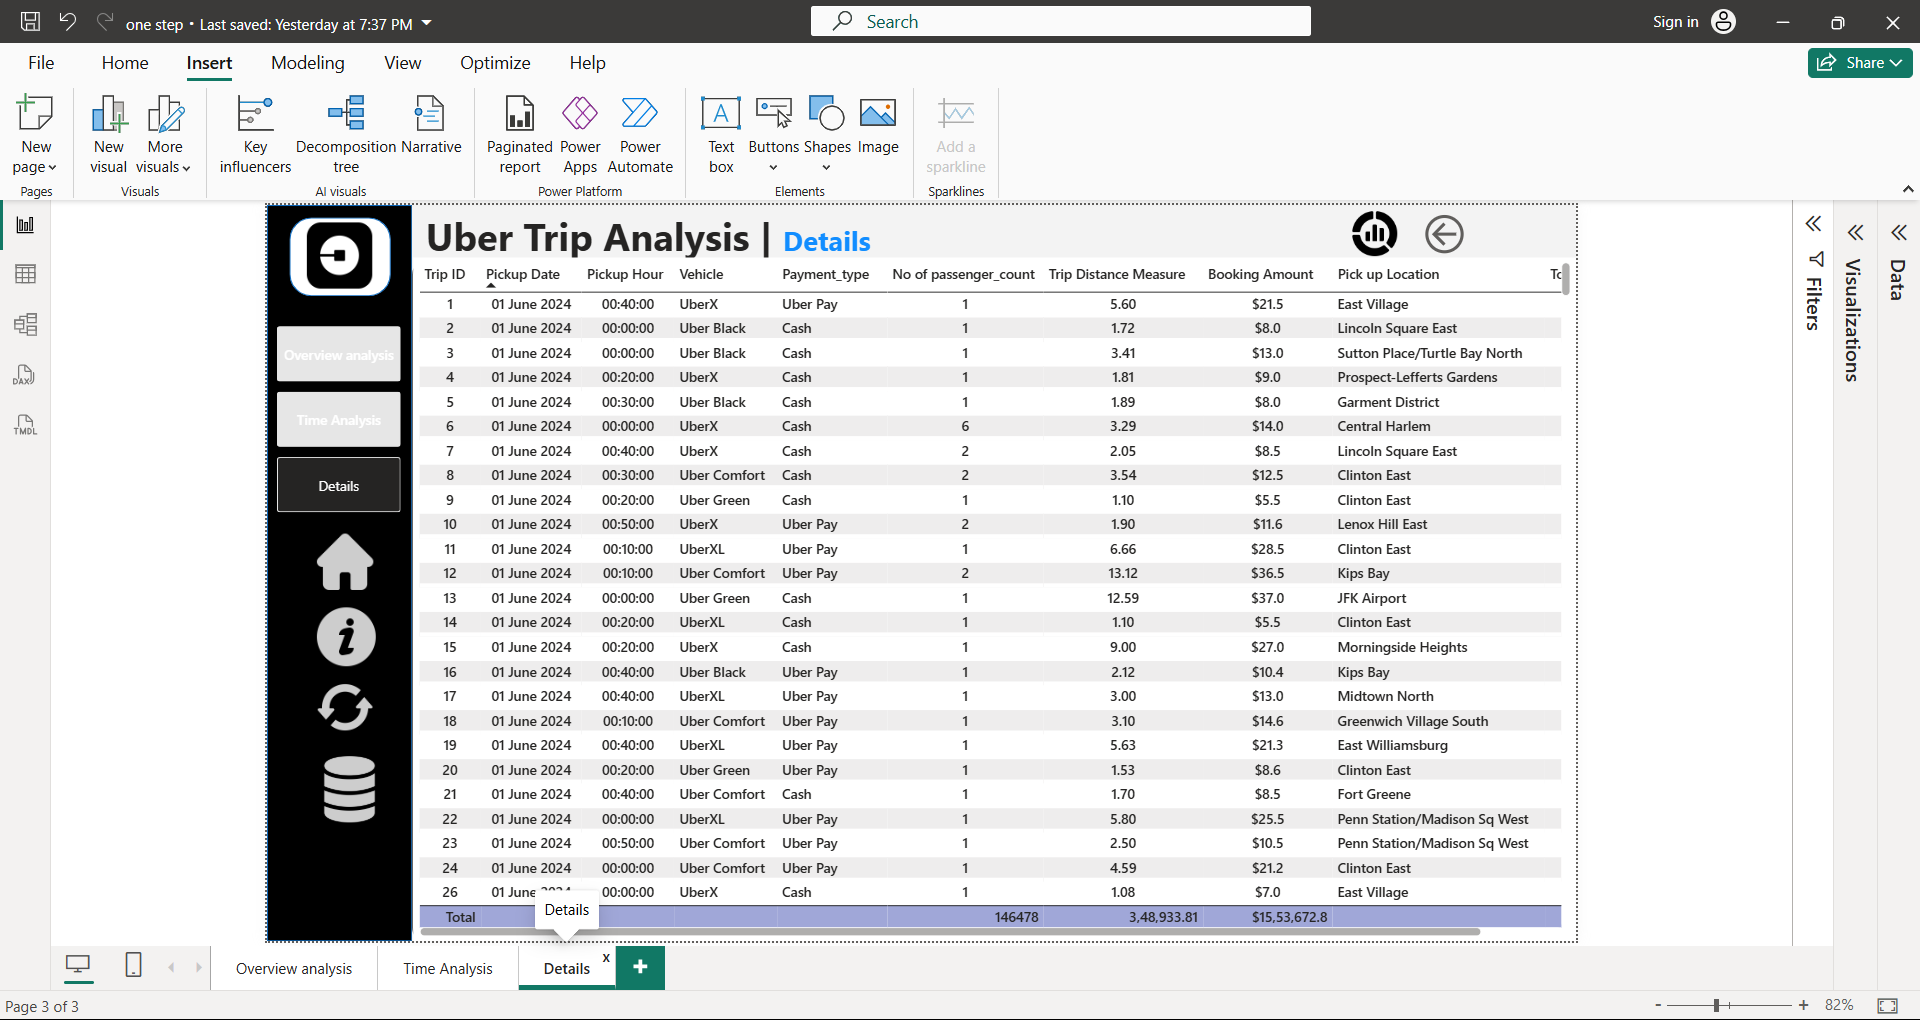

Layout of this report page (visuals, bound fields, positions):
{"tool":"powerbi","page":{"name":"Details","canvas":[1280,720],"ordinal":2},"visuals":[{"type":"shape","box":[0,0,141.8,720.2],"z":0},{"type":"textbox","box":[150.4,0,672.6,64.8],"z":1000},{"type":"shape","title":"Vehicle Type Analysis","box":[141.8,55,1138.5,665.2],"z":2000},{"type":"tableEx","fields":{"Values":["Trip Details.Trip ID","Trip Details.Pickup Date","Trip Details.Pickup Hour (HH MM SS) (bins)","Trip Details.Vehicle","Trip Details.Payment_type","Sum(Trip Details.passenger_count)","Trip Details.Total Trip Distance Measure","Trip Details.Total Booking Amount","Location Table.Location","Trip Details.Total Bookings"]},"box":[143.1,51.4,1137.2,668.9],"z":3000},{"type":"actionButton","box":[1127.5,2.4,48.9,52.6],"z":4000},{"type":"image","box":[1055.3,1.2,56.3,53.8],"z":5000},{"type":"image","box":[44,311.8,64.8,74.6],"z":6000},{"type":"shape","box":[22,12.2,99,77],"z":7000},{"type":"image","box":[31.8,12.2,78.3,74.6],"z":8000},{"type":"pageNavigator","box":[9.8,118.6,121.1,183.4],"z":9000},{"type":"image","box":[44,386.4,67.3,72.1],"z":10000},{"type":"image","box":[44,459.8,64.8,63.6],"z":11000},{"type":"image","box":[40.4,534.4,80.7,74.6],"z":12000}]}

Visuals, with their boxes on the page's 1280x720 design canvas (x1, y1, x2, y2). These are canvas units, not pixel positions in the 1920x1020 screenshot, which may show the page scaled, cropped or inside an application window:
shape: pyautogui.locateOnScreen(0, 0, 142, 720)
textbox: pyautogui.locateOnScreen(150, 0, 823, 65)
"Vehicle Type Analysis" shape: pyautogui.locateOnScreen(142, 55, 1280, 720)
tableEx - Trip Details.Trip ID x Trip Details.Pickup Date: pyautogui.locateOnScreen(143, 51, 1280, 720)
actionButton: pyautogui.locateOnScreen(1128, 2, 1176, 55)
image: pyautogui.locateOnScreen(1055, 1, 1112, 55)
image: pyautogui.locateOnScreen(44, 312, 109, 386)
shape: pyautogui.locateOnScreen(22, 12, 121, 89)
image: pyautogui.locateOnScreen(32, 12, 110, 87)
pageNavigator: pyautogui.locateOnScreen(10, 119, 131, 302)
image: pyautogui.locateOnScreen(44, 386, 111, 458)
image: pyautogui.locateOnScreen(44, 460, 109, 523)
image: pyautogui.locateOnScreen(40, 534, 121, 609)
